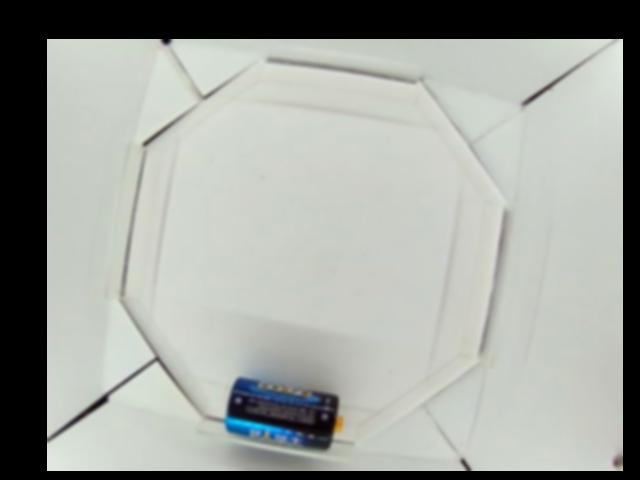Battery: (225, 379, 342, 452)
